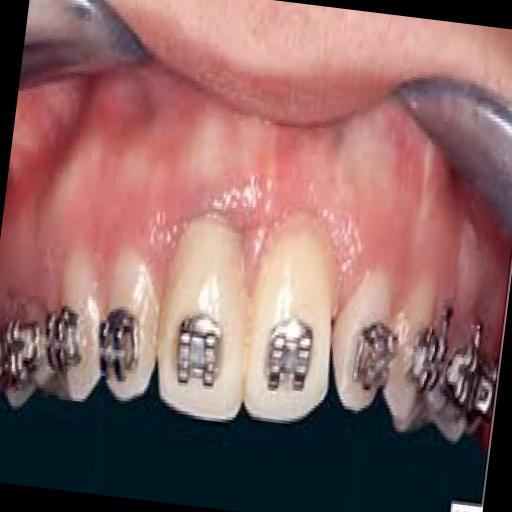correct_brace: (168, 308, 232, 395), (256, 308, 319, 396), (347, 310, 404, 404), (92, 300, 146, 394)
incorrect_brace: (323, 257, 410, 433), (90, 251, 166, 411)
